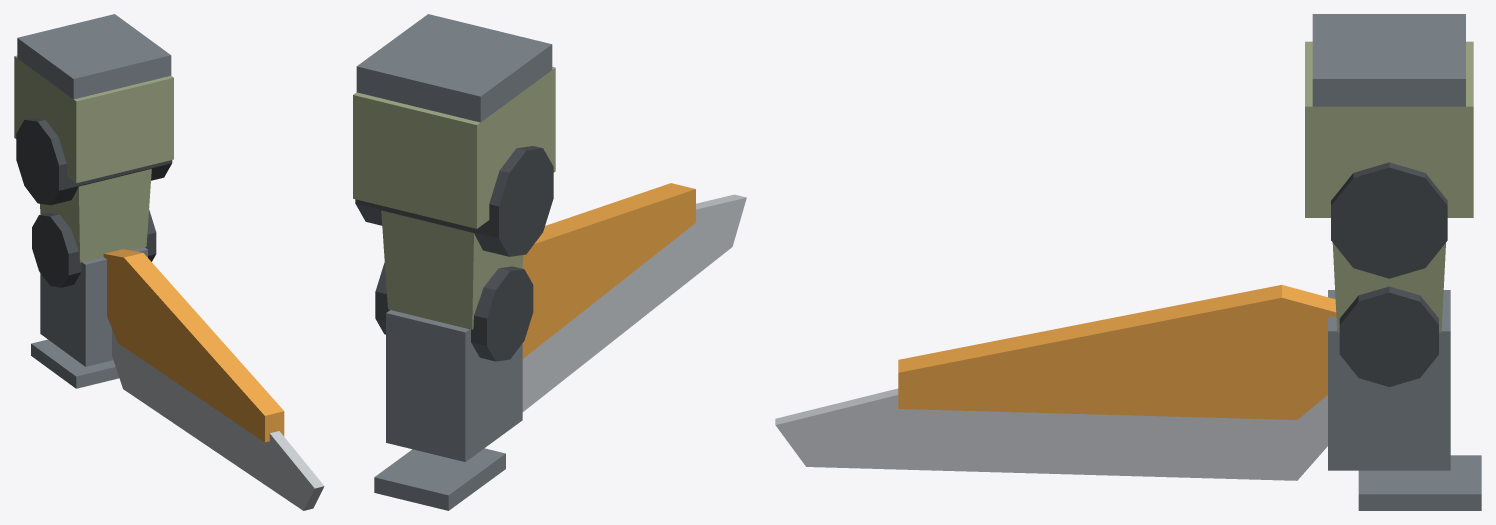
File: mech-hangar-and-battle-frames-blade-arm-d7b84d3f__26855.glb
The picture shows the model from 3 angles, left to right: view 1: azimuth 30°, elevation 25°; view 2: azimuth 150°, elevation 25°; view 3: azimuth 270°, elevation 25°; orthographic projection. The views are drawn at different scales.
Parts seen in each view (by area): view 1: elbow (×4), blade-arm; view 2: elbow (×4), blade-arm; view 3: elbow (×4), blade-arm.
Part boxes in pixels (<box>): elbow (×4): <box>31,210,324,510</box>; blade-arm: <box>14,14,173,262</box>; elbow (×4): <box>374,183,746,510</box>; blade-arm: <box>353,14,555,329</box>; elbow (×4): <box>775,285,1481,510</box>; blade-arm: <box>1305,14,1473,332</box>.
Size of the model in its own units: 0.58 by 1.6 by 2.3.
